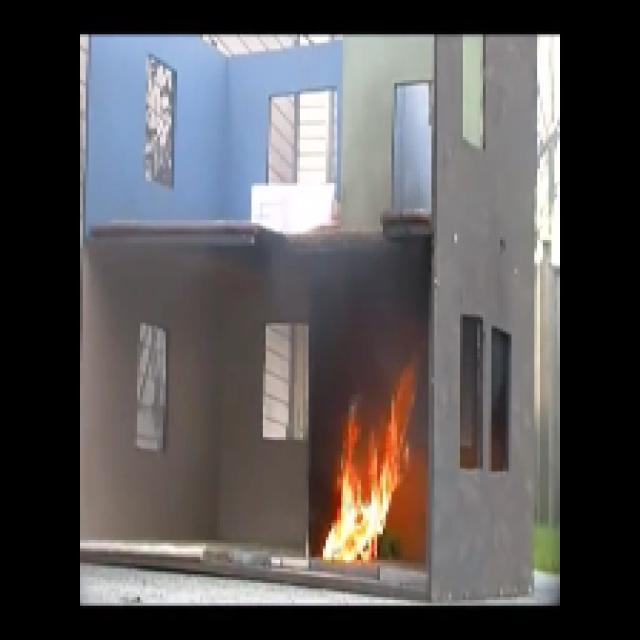Fire: (324, 347, 431, 571)
